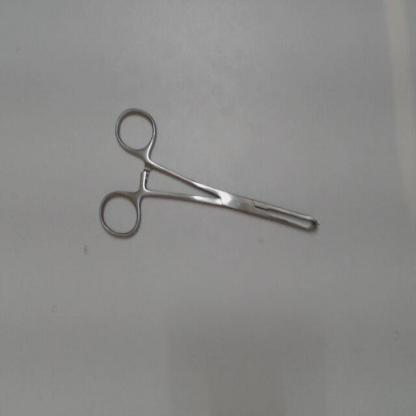Allis Tissue Forceps: (93, 97, 328, 250)
